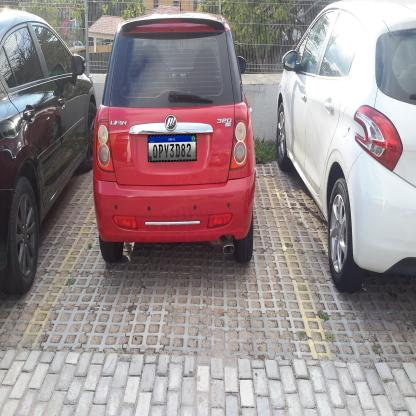PlacaM: (147, 134, 196, 162)
